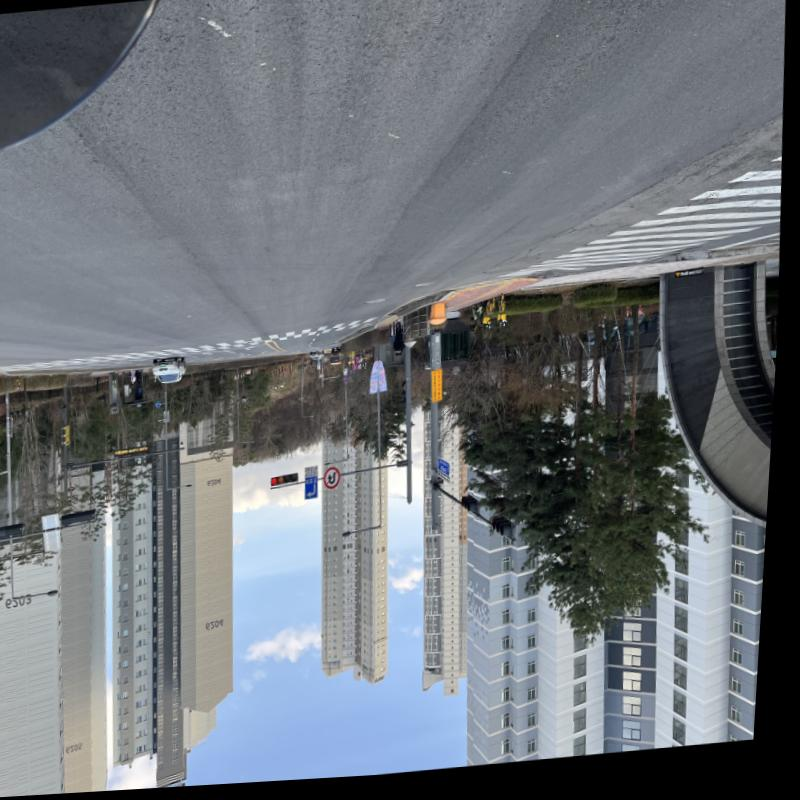red: (277, 480, 283, 489)
